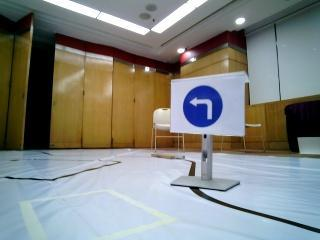left: (173, 82, 239, 132)
